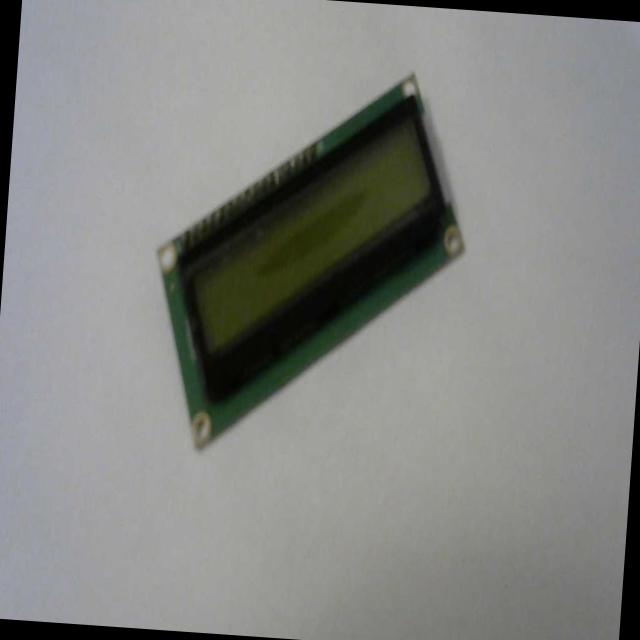lcd: (141, 52, 477, 466)
